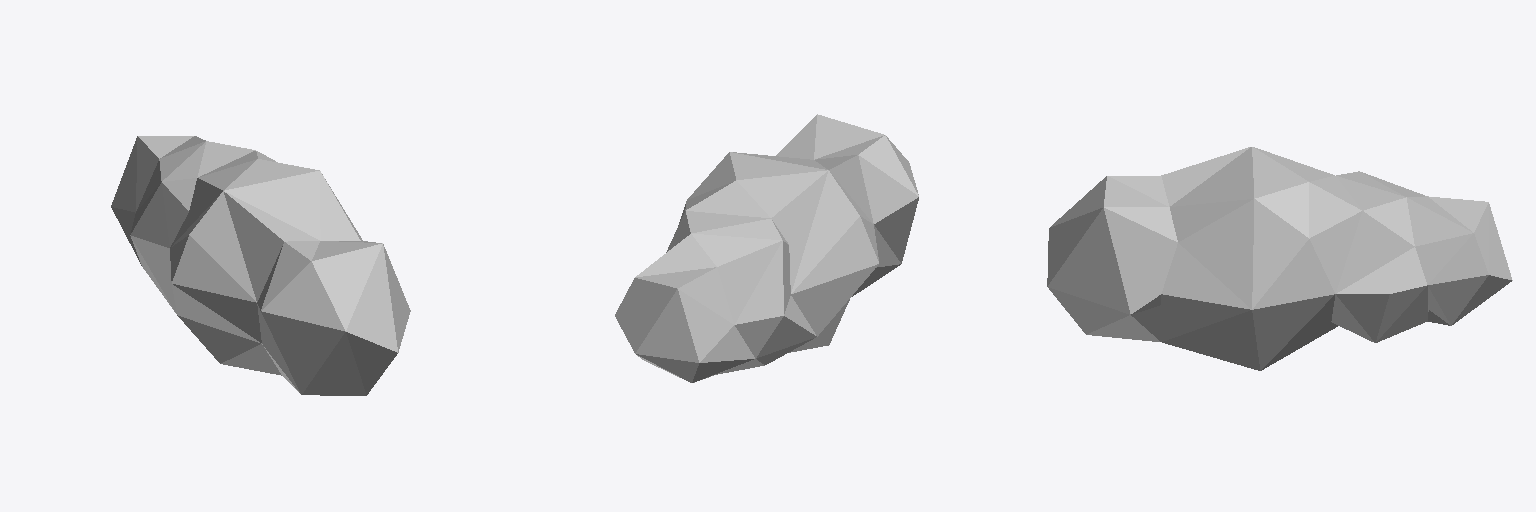
The model's file is cloud.obj.
3 views of the same model, side by side, from view 1: azimuth 30°, elevation 25°; view 2: azimuth 150°, elevation 25°; view 3: azimuth 270°, elevation 25° (orthographic).
Parts seen in each view (by area): view 1: Icosphere.002; view 2: Icosphere.002; view 3: Icosphere.002.
Boxes of the visible parts, <box> form: Icosphere.002: <box>111,136,410,395</box>; Icosphere.002: <box>615,114,918,382</box>; Icosphere.002: <box>1047,147,1512,370</box>.
Size of the model in its own units: 2.58 by 2.18 by 5.3.